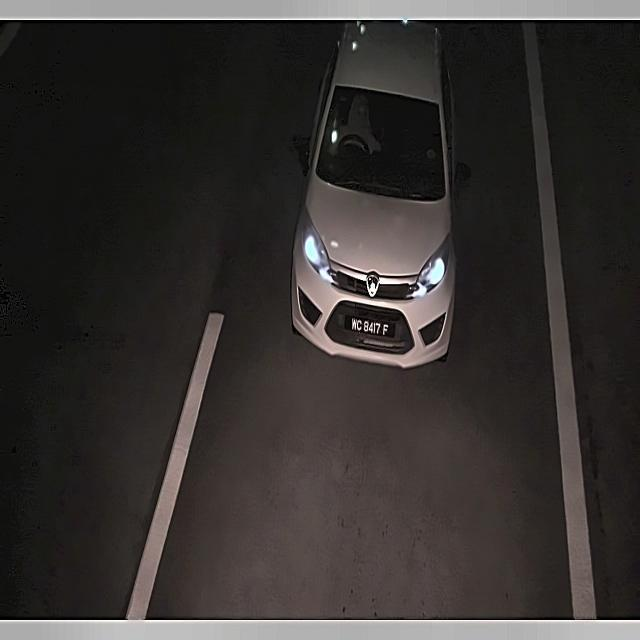car: (345, 308, 398, 350)
